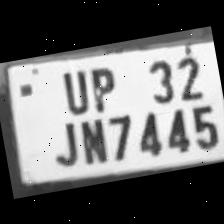2: (170, 48, 208, 102)
3: (140, 51, 178, 106)
4: (128, 104, 164, 159), (156, 102, 192, 156)
5: (182, 94, 222, 152)
7: (99, 107, 136, 164)
J: (44, 115, 81, 169)
N: (72, 110, 110, 166)
P: (80, 60, 122, 111)
U: (52, 63, 92, 116)
